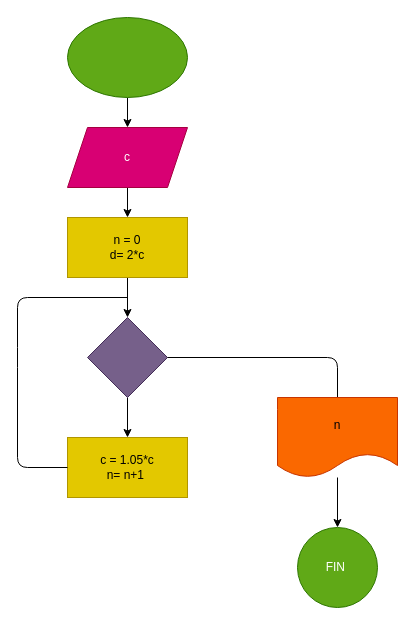
The diagram is 415 pixels wide and 625 high, and some of its shapes have lost their labels. Each missing label, with the box of its shape:
c <= d: (86, 316, 168, 398)
INICIO: (66, 16, 188, 98)
